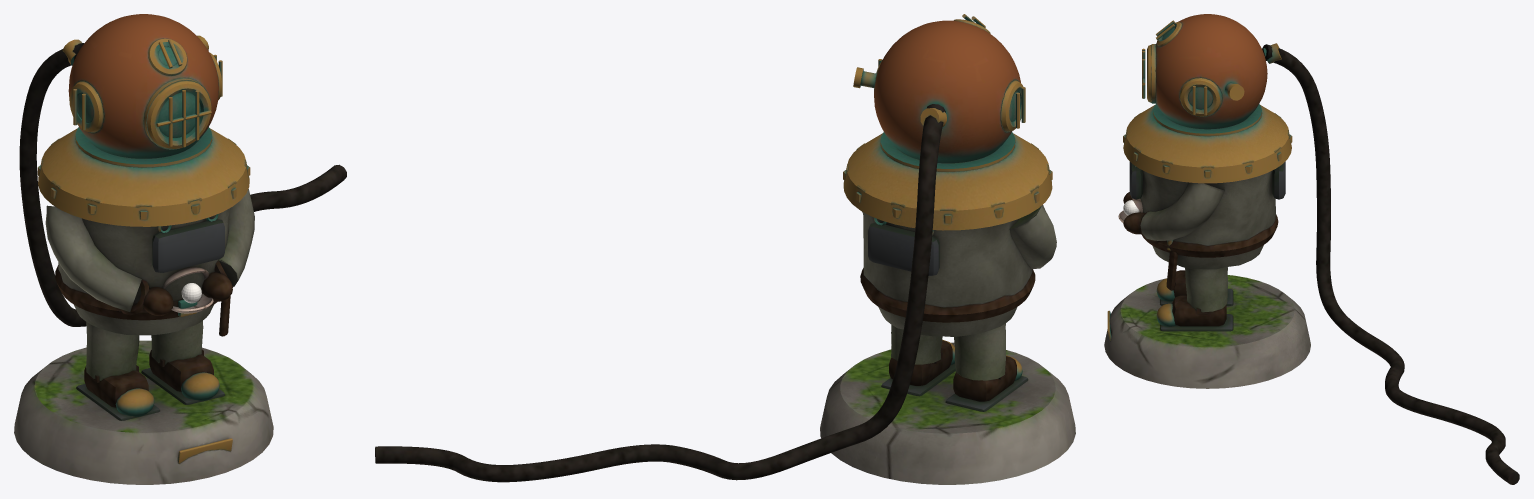
Rendered from diver.glb.
3 renders of one model, left to right at view 1: azimuth 30°, elevation 25°; view 2: azimuth 150°, elevation 25°; view 3: azimuth 270°, elevation 25°, orthographic. The views are drawn at different scales.
Visible parts, largest first — view 1: Diver; view 2: Diver; view 3: Diver.
Part boxes in pixels (x1=…): Diver: x1=14, y1=14, x2=346, y2=484; Diver: x1=375, y1=14, x2=1075, y2=484; Diver: x1=1104, y1=14, x2=1519, y2=484.
Bounding box in the file's own units: 1.7 × 1.32 × 1.53.
3 materials, 1 textured.
